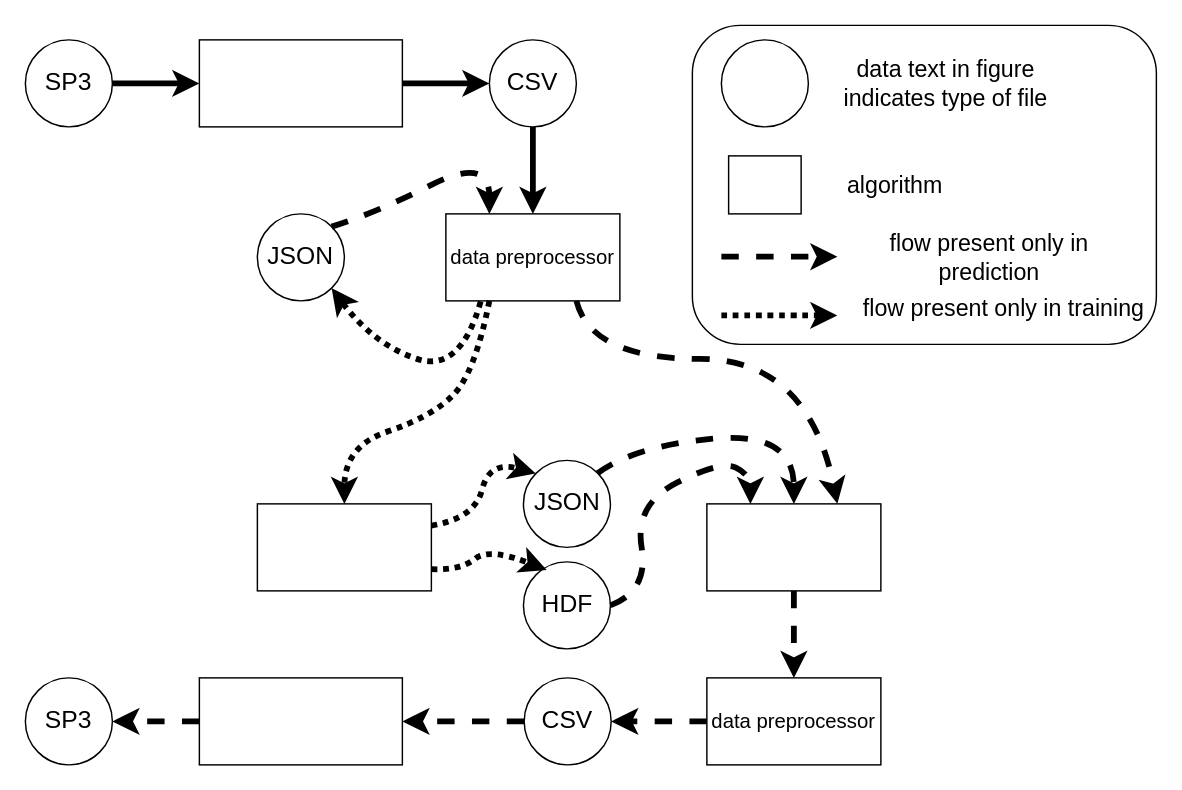
This 1182x790 diagram has some shape labels left out. Here are the shapes that lost their labels. From the top down, the box of each, then its label:
(198, 38, 402, 127): sp3 to csv converter
(256, 502, 431, 591): lstm training
(705, 502, 881, 591): lstm prediction
(198, 676, 402, 765): csv to sp3 converter
